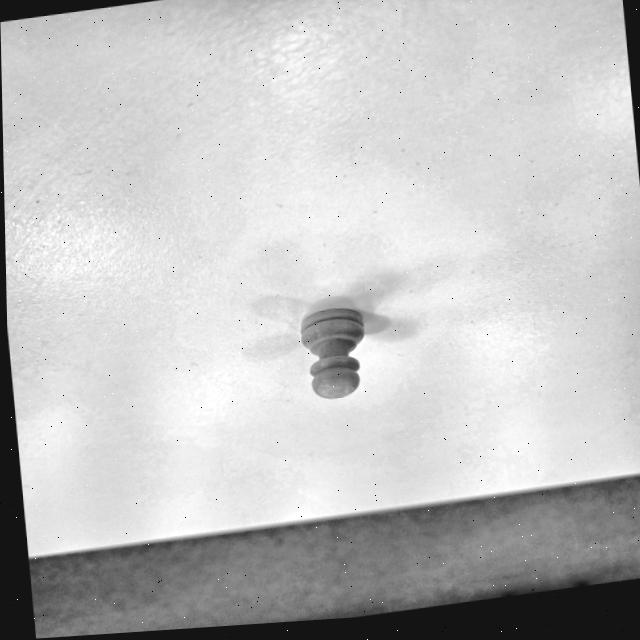white-pawn: (300, 308, 365, 399)
